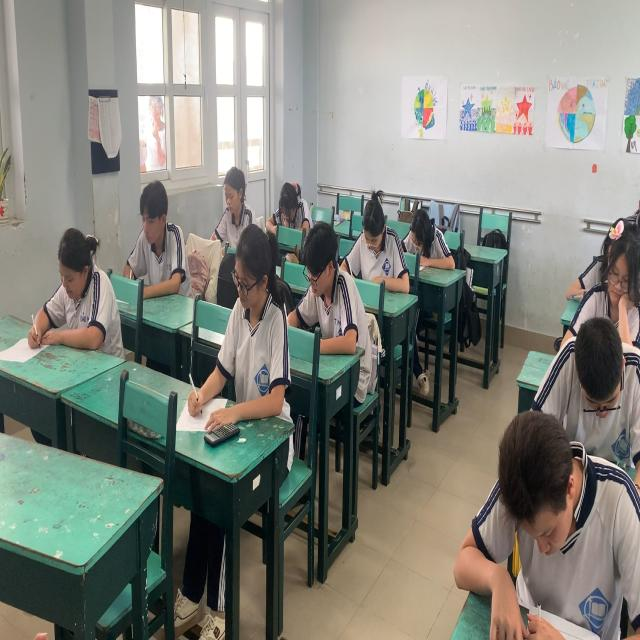not_cheating: (481, 409, 618, 604), (24, 222, 123, 362), (224, 228, 287, 411), (557, 316, 632, 445), (296, 222, 360, 349), (125, 179, 186, 300), (593, 220, 636, 343), (352, 190, 399, 286), (209, 158, 255, 244), (407, 204, 444, 278), (271, 175, 307, 238)
